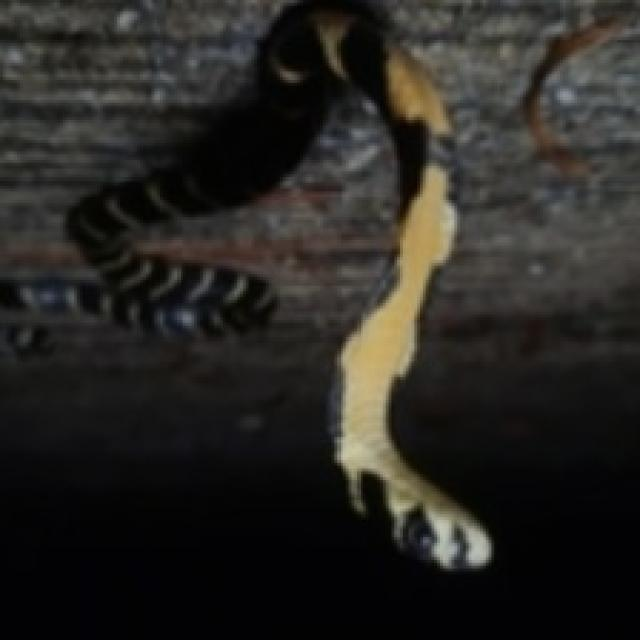king cobra: (0, 0, 492, 570)
